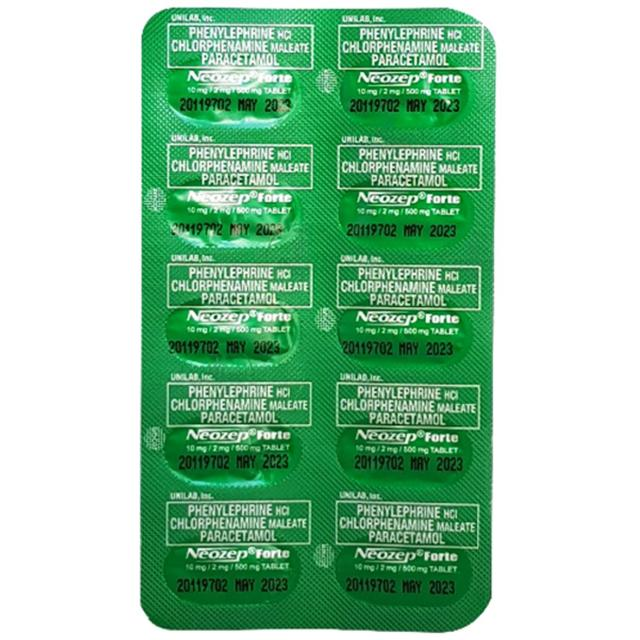blister: (138, 3, 497, 638)
